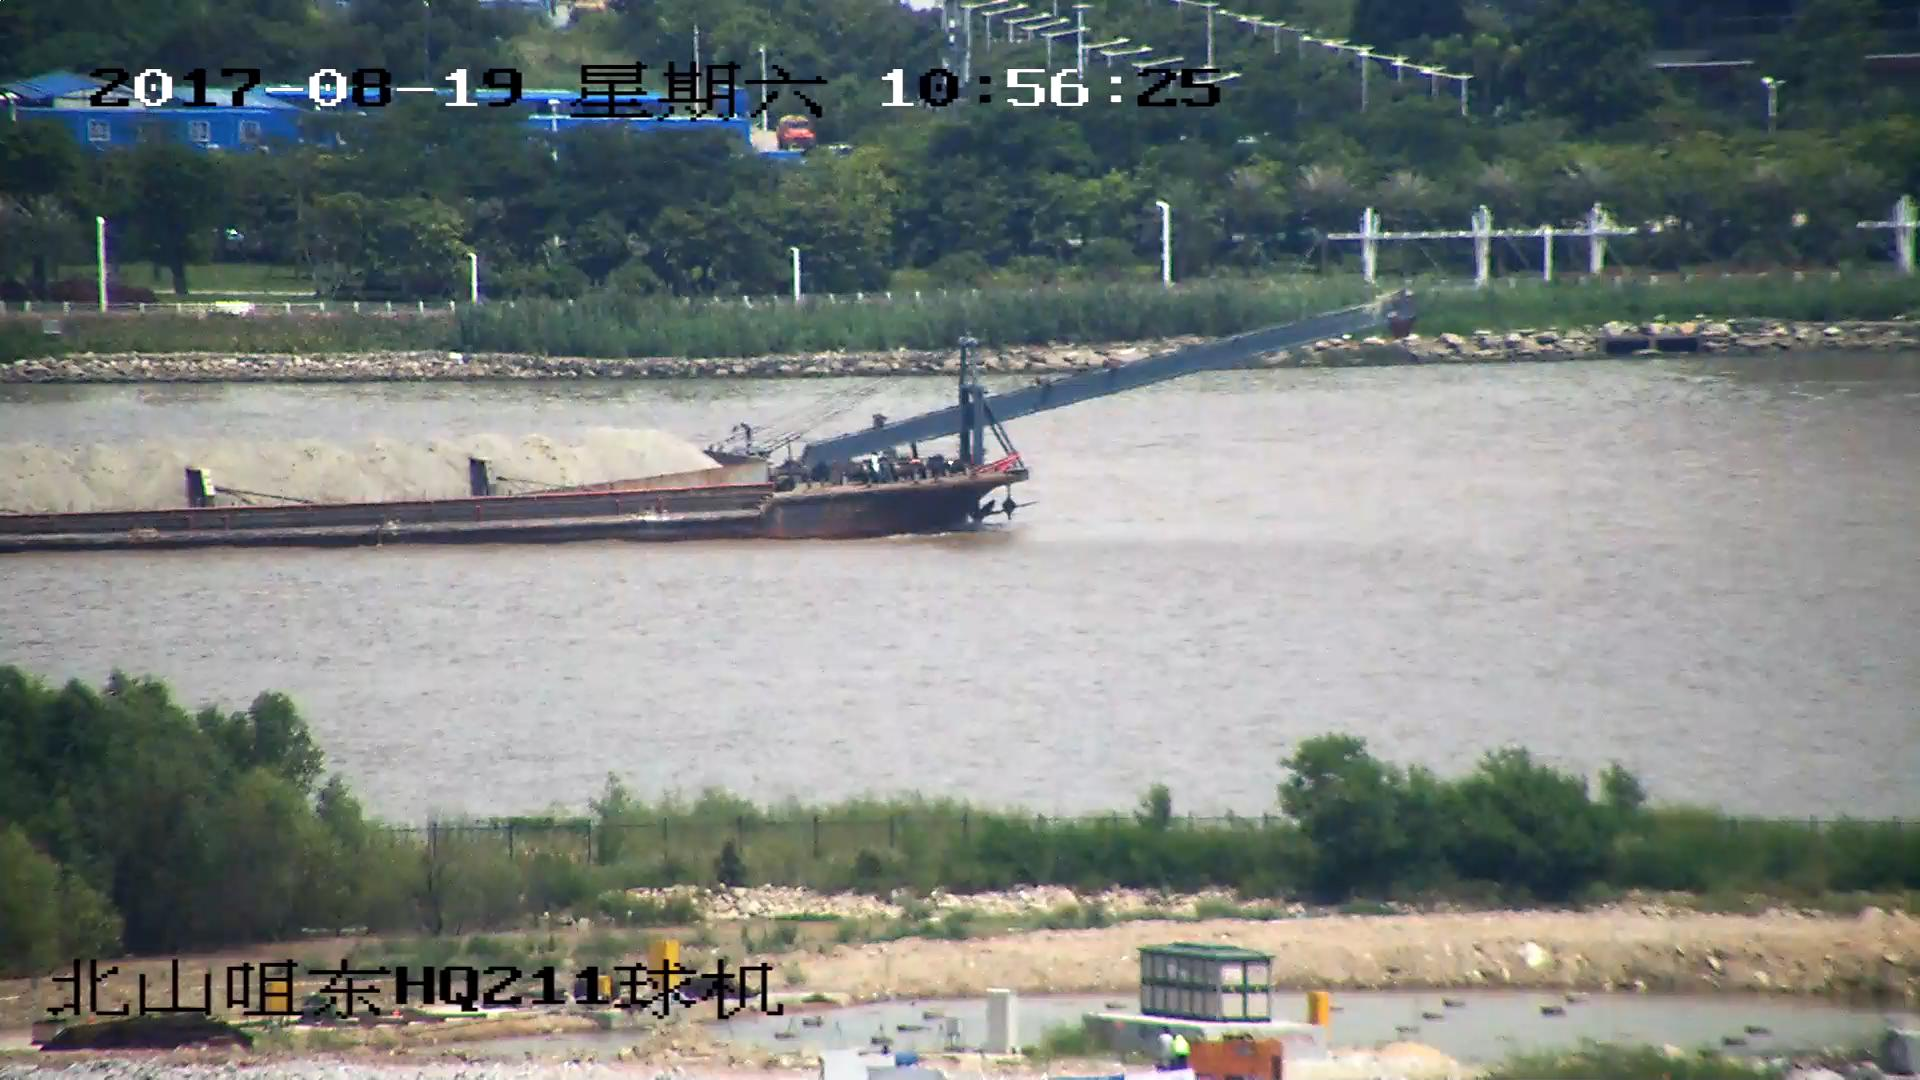ore carrier: (1, 292, 1407, 551)
